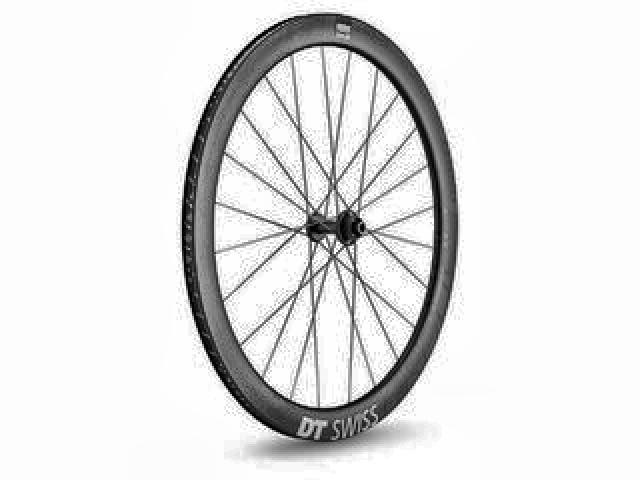wheel: (176, 8, 464, 453)
